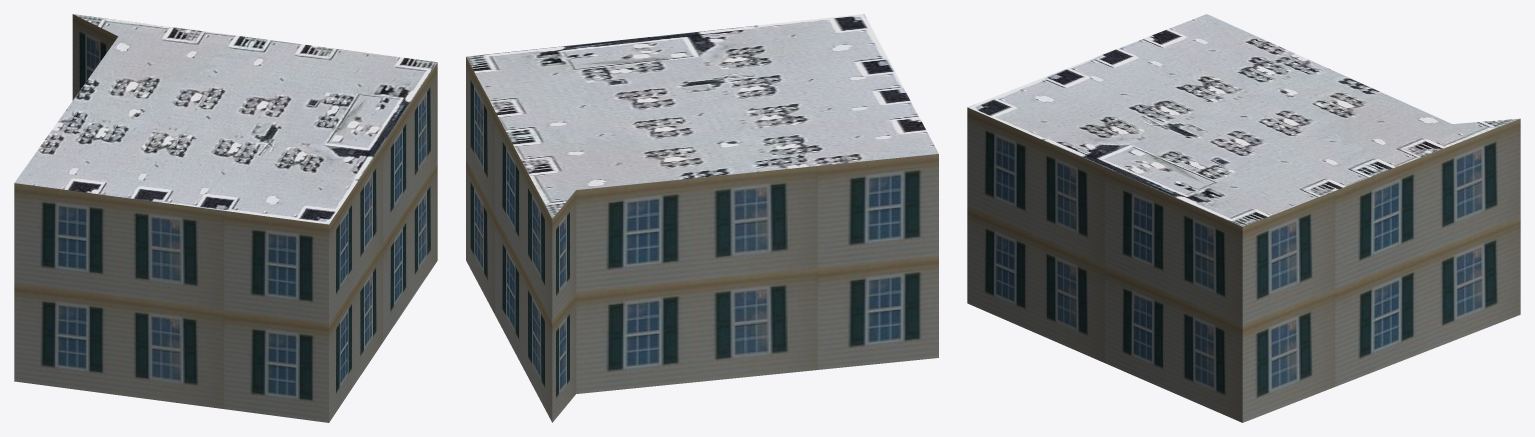
The model's file is ResTex__2984.fbx.
3 renders of one model, left to right at view 1: azimuth 30°, elevation 25°; view 2: azimuth 150°, elevation 25°; view 3: azimuth 270°, elevation 25°, orthographic. The views are drawn at different scales.
Visible parts, largest first — view 1: CityEngineMaterial_7_m, CityEngineMaterial_m; view 2: CityEngineMaterial_7_m, CityEngineMaterial_m; view 3: CityEngineMaterial_7_m, CityEngineMaterial_m.
Boxes of the visible parts, x1=… form: CityEngineMaterial_7_m: x1=14, y1=14, x2=437, y2=422; CityEngineMaterial_m: x1=14, y1=14, x2=437, y2=224; CityEngineMaterial_7_m: x1=466, y1=57, x2=938, y2=422; CityEngineMaterial_m: x1=466, y1=14, x2=938, y2=218; CityEngineMaterial_7_m: x1=967, y1=107, x2=1520, y2=422; CityEngineMaterial_m: x1=967, y1=14, x2=1519, y2=226.
Size of the model in its own units: 13.97 by 6 by 15.35.
2 materials, 2 textured.
